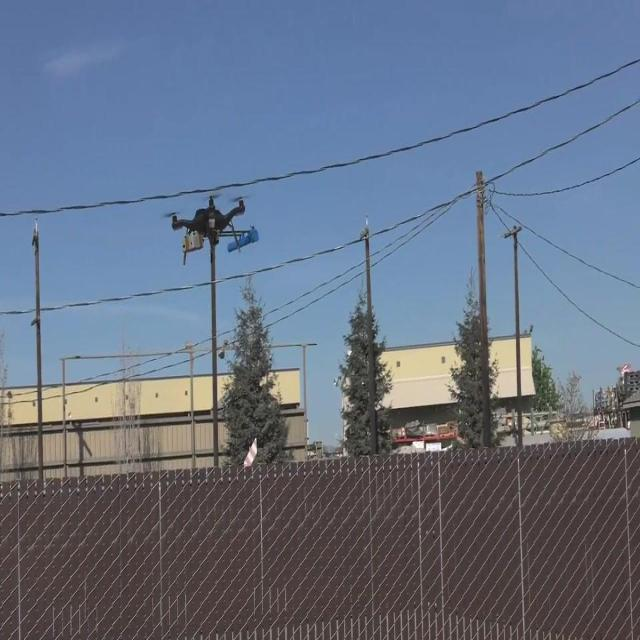drone: (166, 192, 260, 265)
